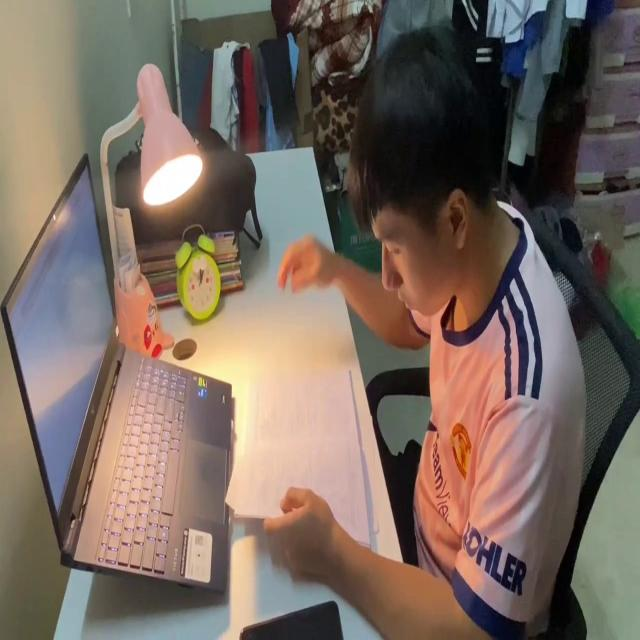book: (223, 332, 369, 550)
laptop: (1, 148, 235, 610)
phone: (240, 594, 345, 640)
student: (266, 23, 586, 640)
